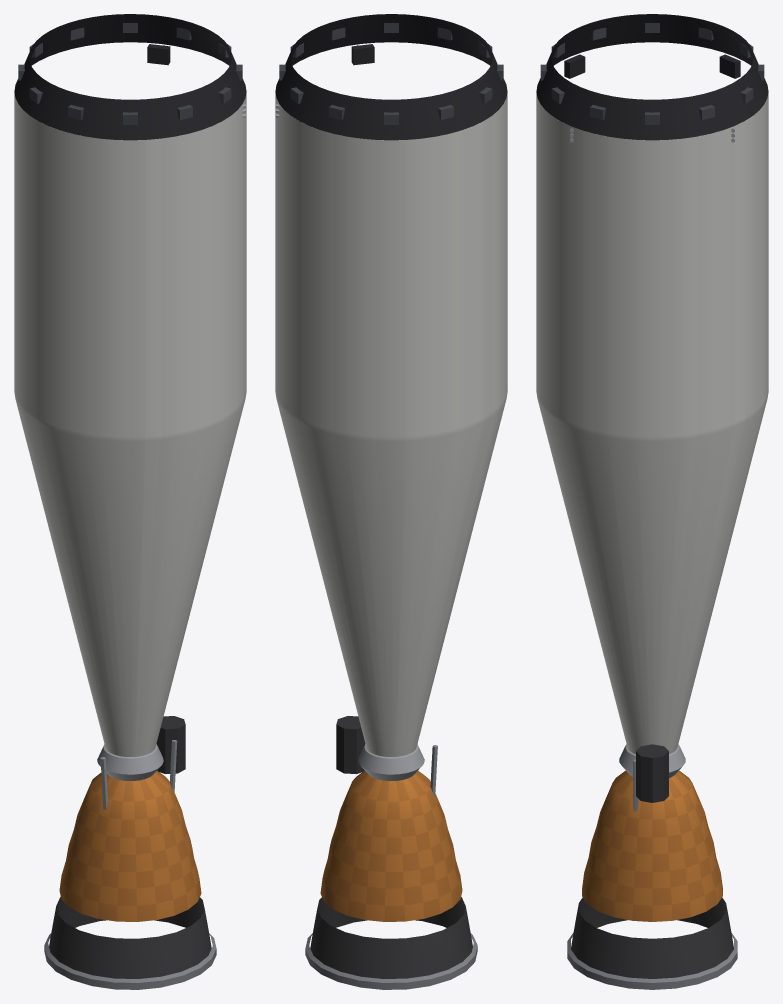
Rendered from upper.hi.glb.
3 views of the same model, side by side, from view 1: azimuth 30°, elevation 25°; view 2: azimuth 150°, elevation 25°; view 3: azimuth 270°, elevation 25° (orthographic).
Visible parts, largest first — view 1: upper.hull, upper.bell, upper.dark, upper.metal; view 2: upper.hull, upper.bell, upper.dark, upper.metal; view 3: upper.hull, upper.bell, upper.dark, upper.metal.
Boxes of the visible parts, box(x1,y1,x2,y2) form: upper.hull: box(14, 92, 246, 756); upper.bell: box(49, 771, 211, 978); upper.dark: box(14, 14, 246, 773); upper.metal: box(44, 45, 246, 989); upper.hull: box(275, 92, 507, 756); upper.bell: box(310, 770, 472, 978); upper.dark: box(275, 14, 507, 773); upper.metal: box(275, 45, 477, 989); upper.hull: box(536, 92, 768, 754); upper.bell: box(571, 770, 733, 978); upper.dark: box(536, 14, 768, 802); upper.metal: box(567, 128, 737, 989).
Bounding box in the file's own units: 3.66 × 15.63 × 3.66.
